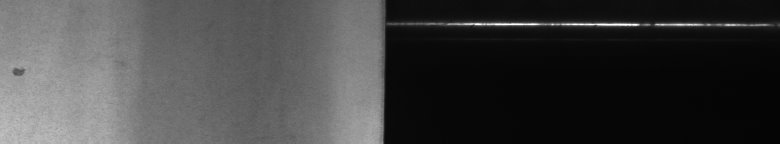fi: (9, 60, 28, 84)
